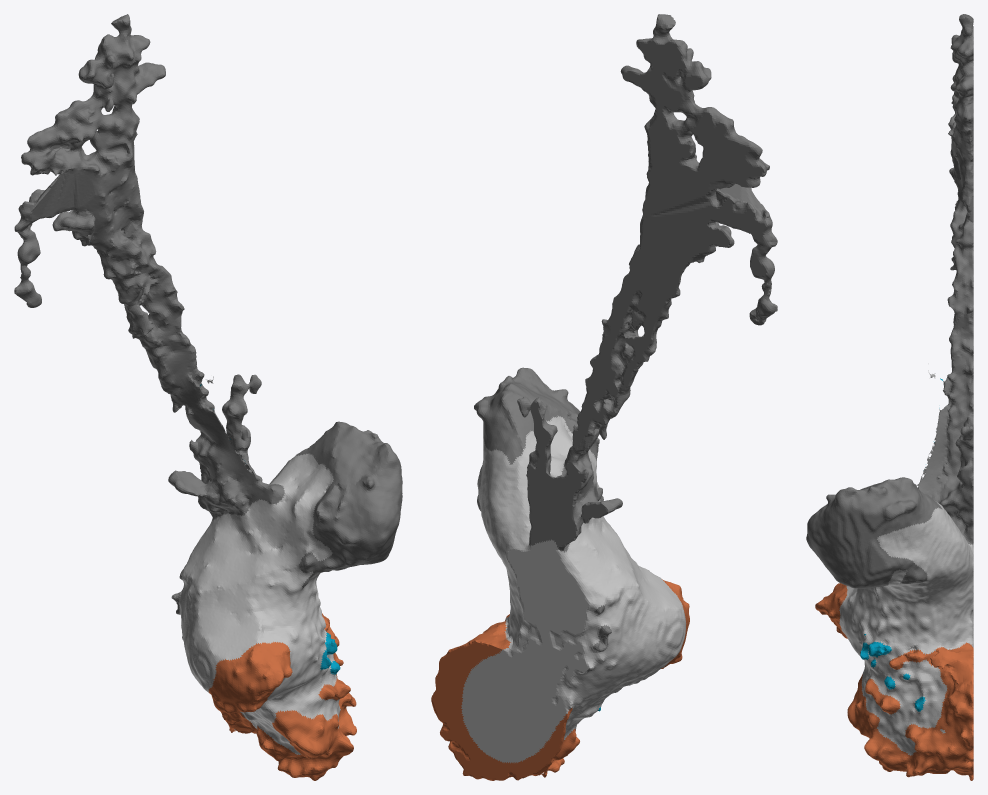
3 renders of one model, left to right at view 1: azimuth 30°, elevation 25°; view 2: azimuth 150°, elevation 25°; view 3: azimuth 270°, elevation 25°, orthographic. The views are drawn at different scales.
Size of the model in its own units: 169 by 381 by 83.62.
